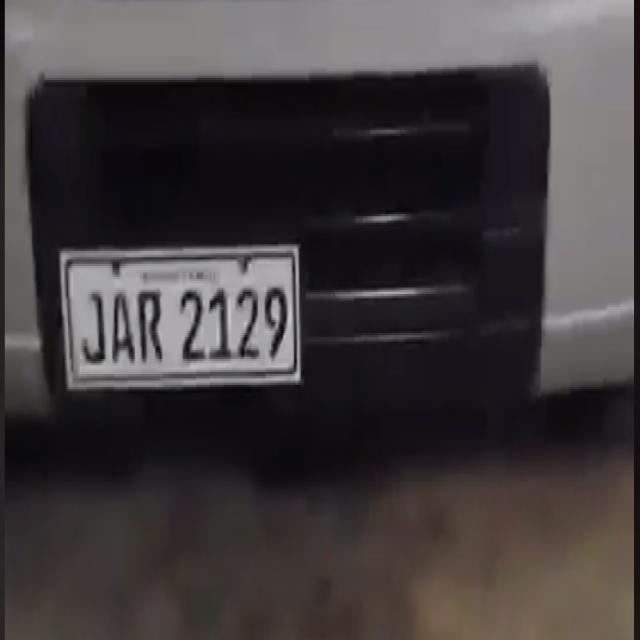license-plate: (55, 248, 303, 395)
